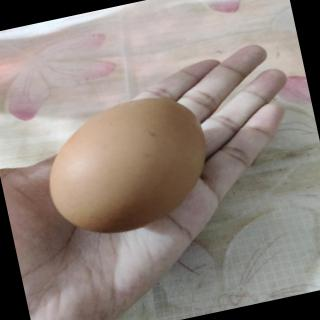Telur: (34, 83, 225, 246)
